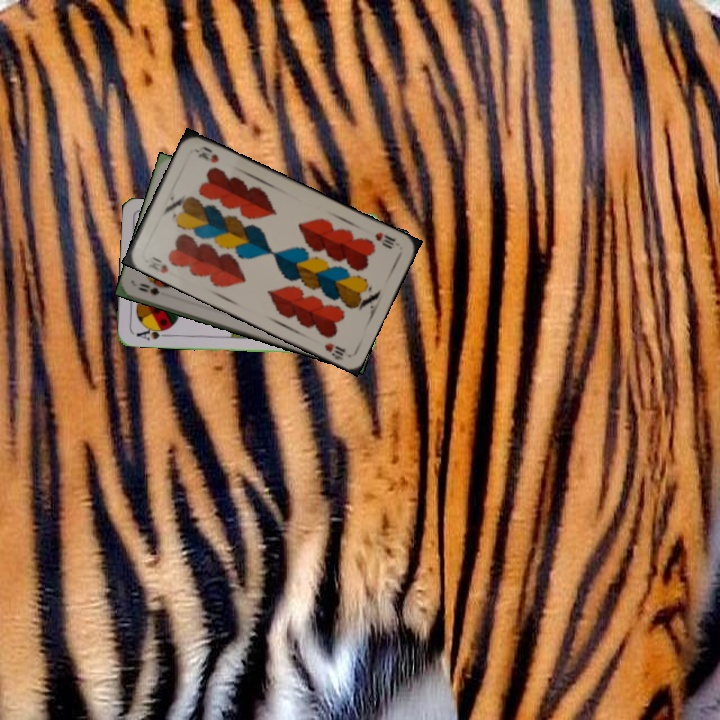H10: (371, 228, 398, 252), (145, 252, 171, 276)
SA: (132, 323, 171, 343)
SO: (134, 279, 162, 298)
